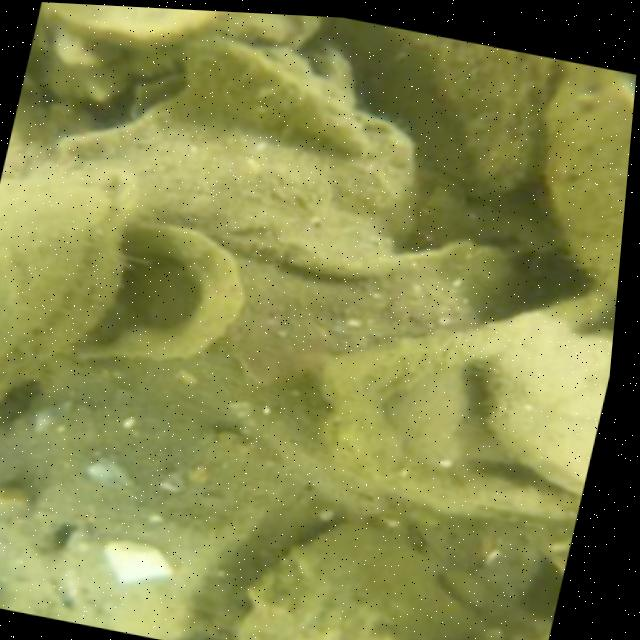Oyster-Closed: (0, 166, 130, 399)
Oyster-Indeterminate: (0, 384, 287, 640), (312, 289, 616, 523), (58, 100, 419, 278), (234, 238, 518, 380), (331, 17, 547, 196), (62, 214, 247, 364), (237, 528, 471, 640), (186, 39, 369, 157), (486, 327, 610, 495), (58, 520, 211, 640), (62, 3, 321, 44)
Oyster-Open: (553, 63, 636, 301)
